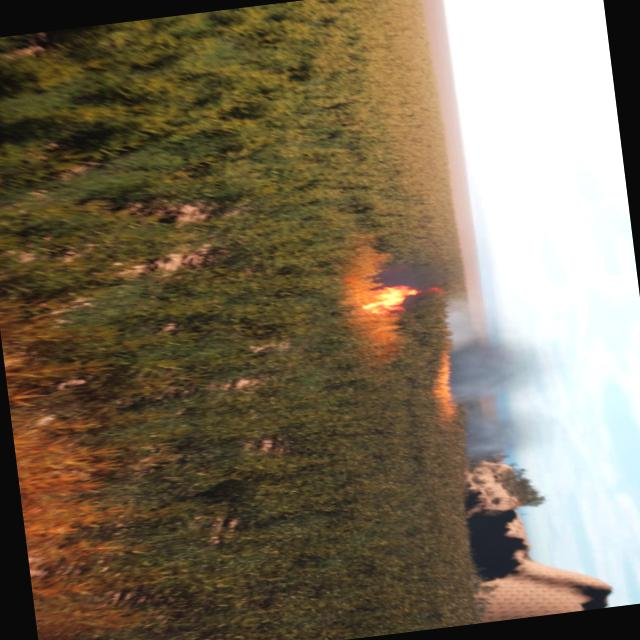fire: (358, 282, 426, 320), (432, 352, 466, 408)
smoke: (448, 288, 557, 408), (457, 402, 564, 468), (375, 255, 446, 293)
